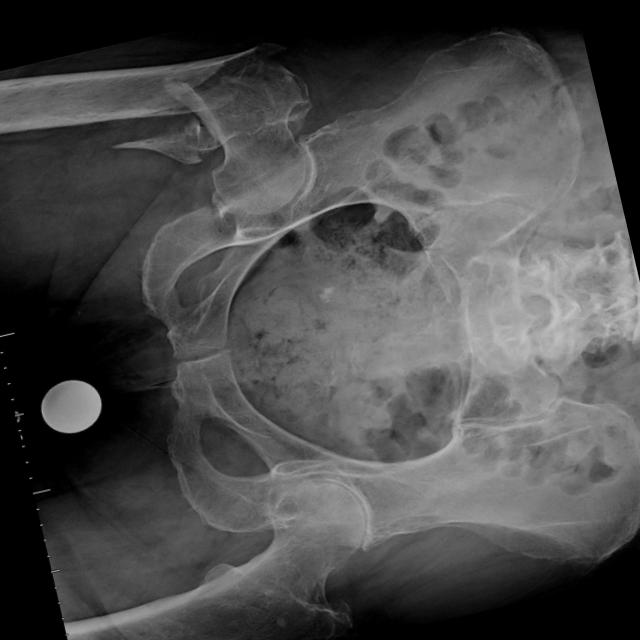normal-left: (72, 480, 365, 640)
right-intertrochanteric: (160, 59, 311, 215), (128, 43, 284, 118)
right-lesser-trochanter: (111, 117, 219, 164)
